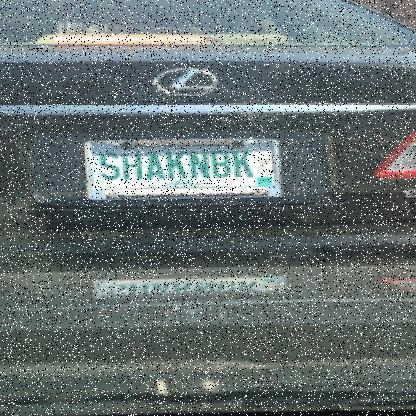licence: (83, 140, 283, 198)
